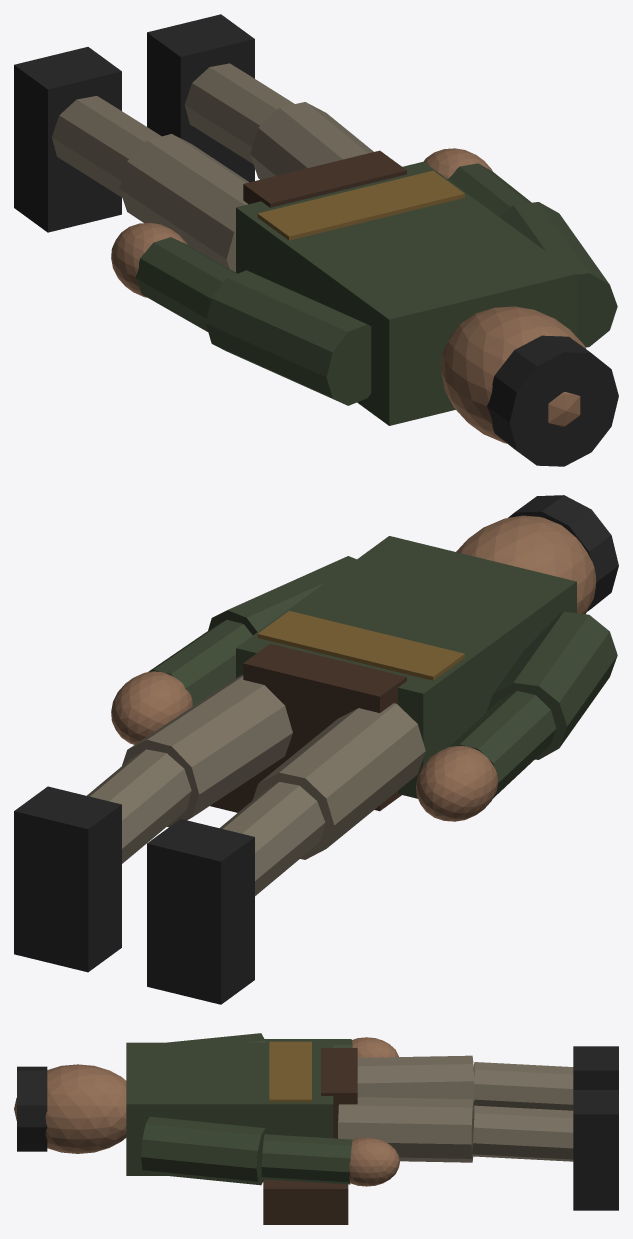
Rendered from SM_CharacterMerchant_Preview.obj.
3 views of the same model, one above another, from view 1: azimuth 30°, elevation 25°; view 2: azimuth 150°, elevation 25°; view 3: azimuth 270°, elevation 25° (orthographic). The views are drawn at different scales.
Size of the model in its own units: 0.95 by 0.39 by 1.99.
